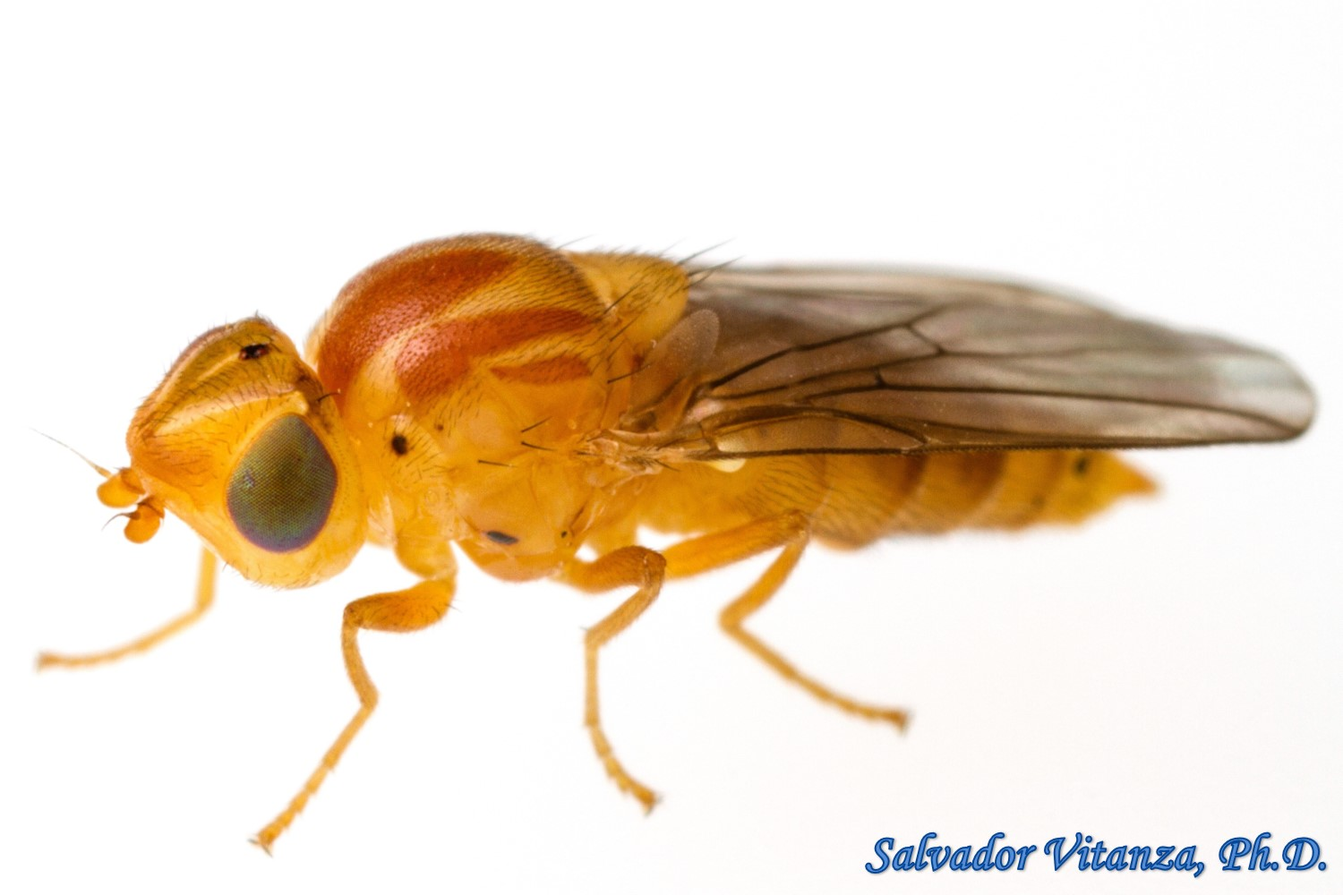Chloropidae: (20, 228, 1343, 857)
